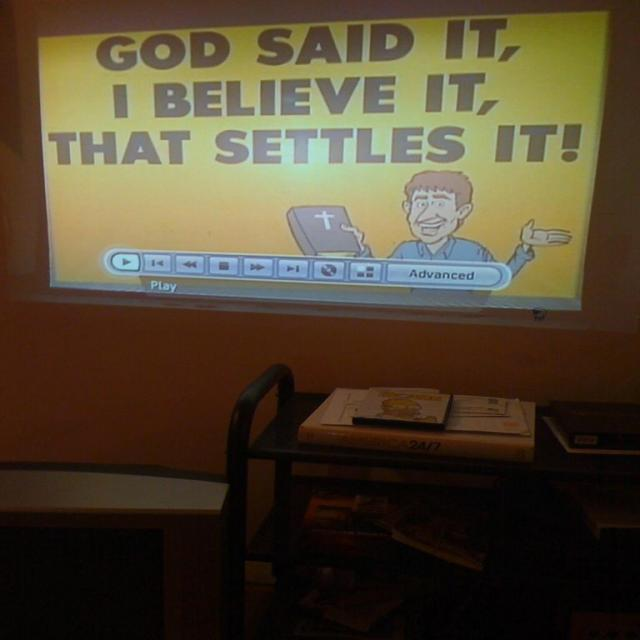Table: (205, 377, 556, 626)
